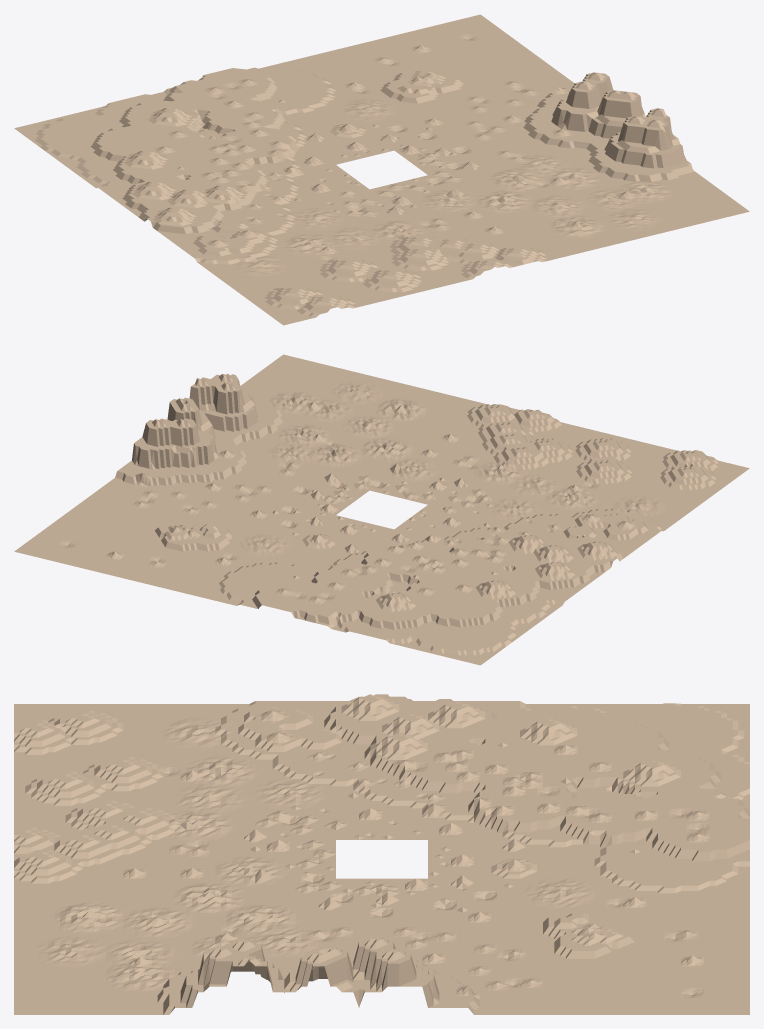
Rendered from terrain_1.fbx.
3 renders of one model, top to bottom at view 1: azimuth 30°, elevation 25°; view 2: azimuth 150°, elevation 25°; view 3: azimuth 270°, elevation 25°, orthographic. The views are drawn at different scales.
Visible parts, largest first — view 1: Plane; view 2: Plane; view 3: Plane.
Boxes of the visible parts, left/top/right/bottom form: Plane: left=14, top=14, right=749, bottom=325; Plane: left=14, top=354, right=749, bottom=665; Plane: left=14, top=694, right=749, bottom=1014.
Size of the model in its own units: 1280 by 111 by 1280.
